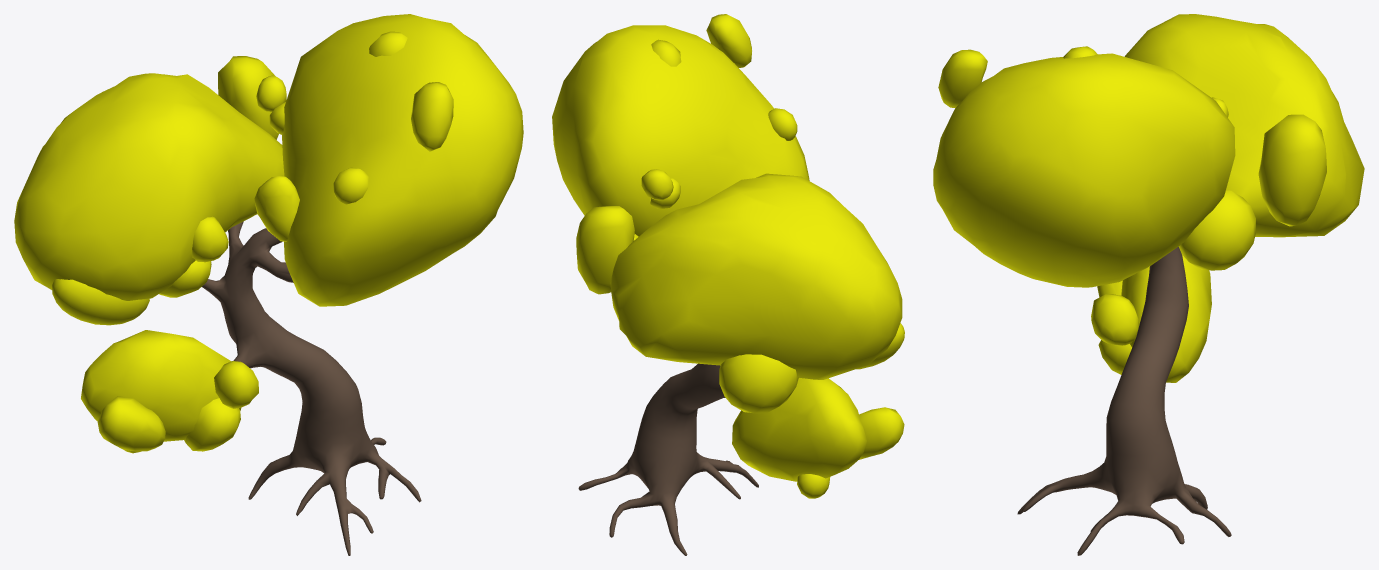
Rendered from Japan_Tree_06.fbx.
3 views of the same model, side by side, from view 1: azimuth 30°, elevation 25°; view 2: azimuth 150°, elevation 25°; view 3: azimuth 270°, elevation 25° (orthographic). The views are drawn at different scales.
Parts seen in each view (by area): view 1: polySurface61; view 2: polySurface61; view 3: polySurface61.
Boxes of the visible parts, x1,y1,x2,y2 form: polySurface61: (14,14,523,555); polySurface61: (552,14,904,555); polySurface61: (933,14,1364,555).
Bounding box in the file's own units: 15.57 × 17.39 × 13.29.
